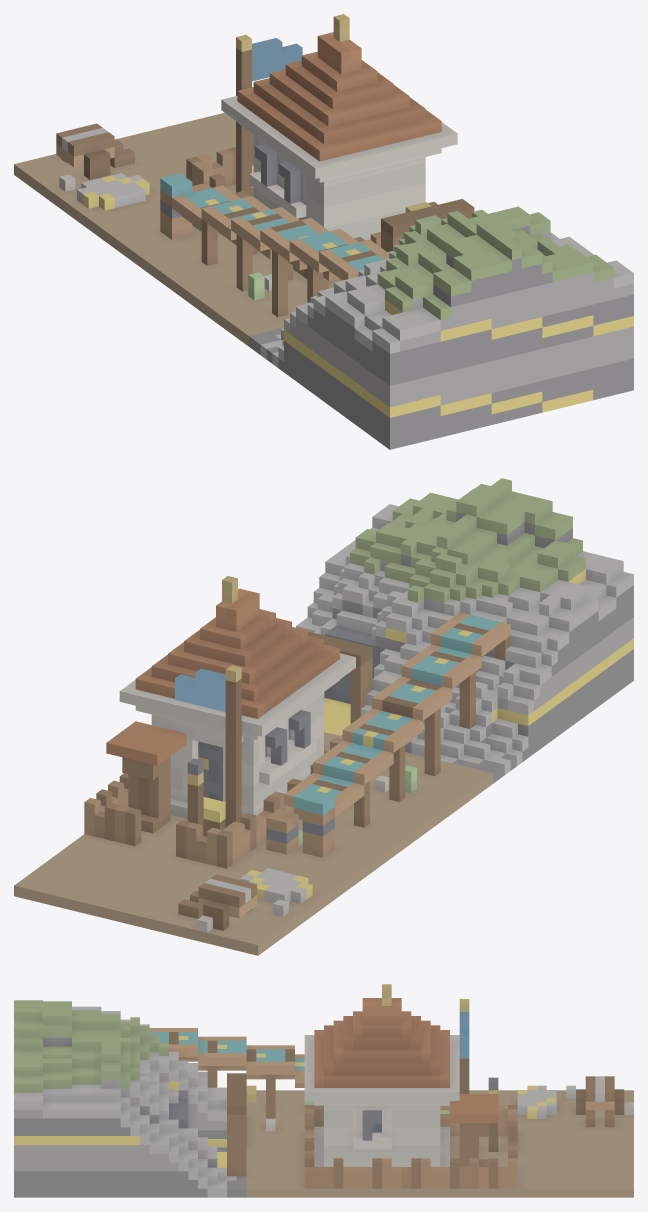
File: gold_mine.glb
3 views of the same model, one above another, from view 1: azimuth 30°, elevation 25°; view 2: azimuth 150°, elevation 25°; view 3: azimuth 270°, elevation 25° (orthographic). The views are drawn at different scales.
Parts seen in each view (by area): view 1: gold_mine; view 2: gold_mine; view 3: gold_mine.
Part boxes in pixels (x1,y1,x2,y2): gold_mine: [14, 14, 633, 449]; gold_mine: [14, 478, 633, 955]; gold_mine: [14, 984, 633, 1197].
Size of the model in its own units: 3 by 2.62 by 8.
